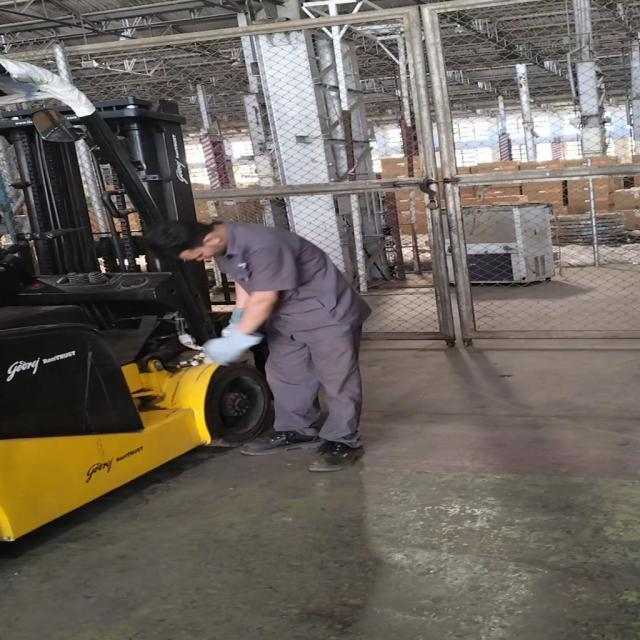Gloves-Detection: (210, 306, 258, 369)
